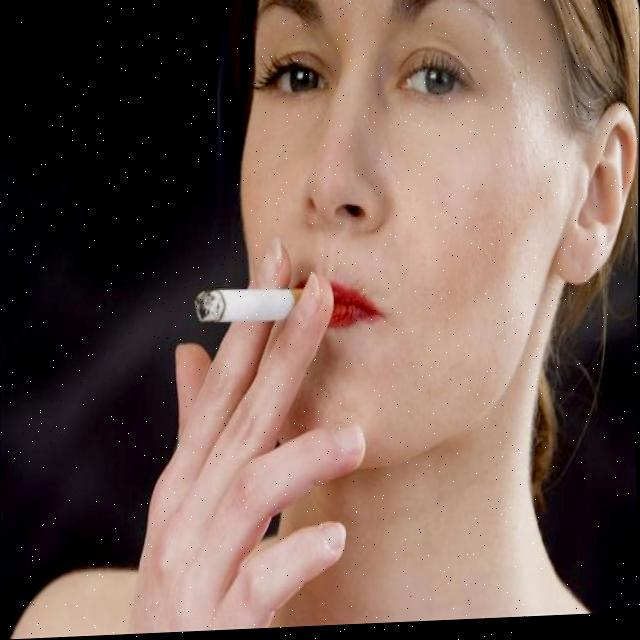cigarette: (196, 292, 304, 325)
